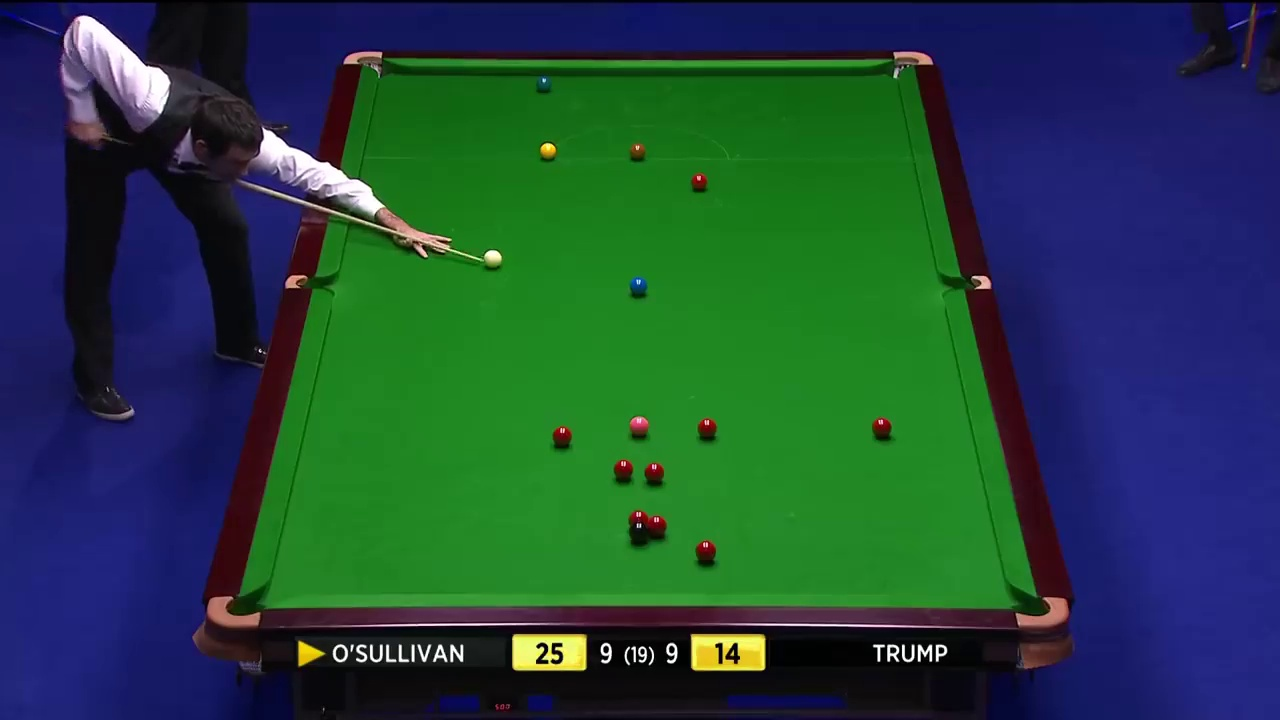ball: (551, 424, 571, 446), (642, 462, 664, 482), (695, 541, 717, 561), (629, 415, 650, 435), (628, 274, 647, 295), (482, 249, 501, 269), (698, 419, 717, 439), (873, 418, 891, 439), (614, 459, 632, 480), (691, 172, 710, 190), (539, 141, 558, 157), (537, 74, 553, 93), (627, 142, 644, 158)
